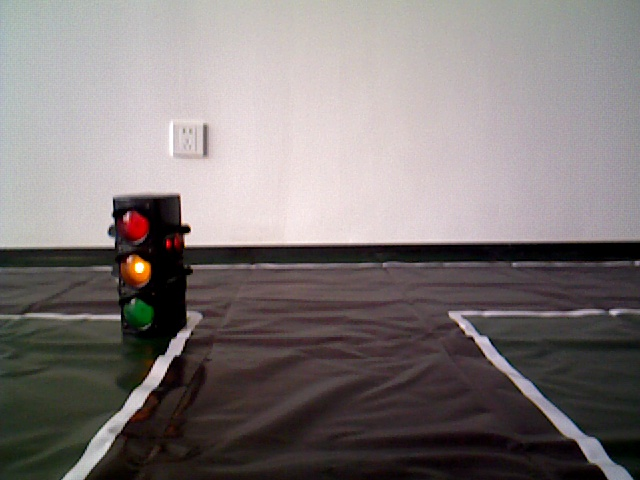yellow: (116, 192, 183, 340)
